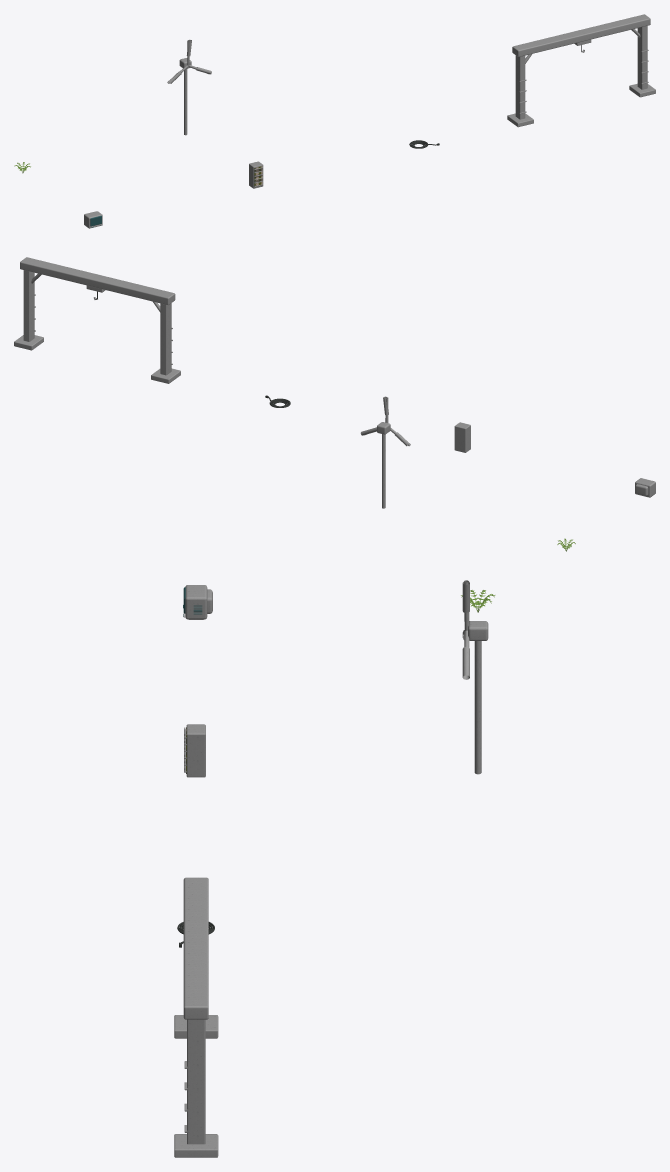
Rendered from reclaimed-world.glb.
The picture shows the model from 3 angles, top to bottom: view 1: azimuth 30°, elevation 25°; view 2: azimuth 150°, elevation 25°; view 3: azimuth 270°, elevation 25°; orthographic projection. The views are drawn at different scales.
Visible parts, largest first — view 1: salvage-gantry/Cube.012, salvage-gantry/Cube, salvage-gantry/Cube.006; view 2: salvage-gantry/Cube.012, salvage-gantry/Cube, salvage-gantry/Cube.006, server-body/Cube; view 3: salvage-gantry/Cube.012, salvage-gantry/Cube.006, server-body/Cube, wind-pump/Tube, salvage-gantry/Cube.007.
Part boxes in pixels (bbox=[...]): salvage-gantry/Cube.012: bbox=[512, 14, 650, 56]; salvage-gantry/Cube: bbox=[515, 55, 525, 119]; salvage-gantry/Cube.006: bbox=[637, 26, 647, 89]; salvage-gantry/Cube.012: bbox=[20, 257, 175, 305]; salvage-gantry/Cube: bbox=[160, 303, 171, 375]; salvage-gantry/Cube.006: bbox=[23, 270, 34, 341]; server-body/Cube: bbox=[454, 422, 470, 452]; salvage-gantry/Cube.012: bbox=[183, 877, 208, 1019]; salvage-gantry/Cube.006: bbox=[187, 1019, 205, 1144]; server-body/Cube: bbox=[186, 724, 205, 777]; wind-pump/Tube: bbox=[474, 641, 481, 774]; salvage-gantry/Cube.007: bbox=[174, 1134, 218, 1157].
Size of the model in its own units: 83.25 by 13.53 by 20.52.
5 materials, 2 textured.
